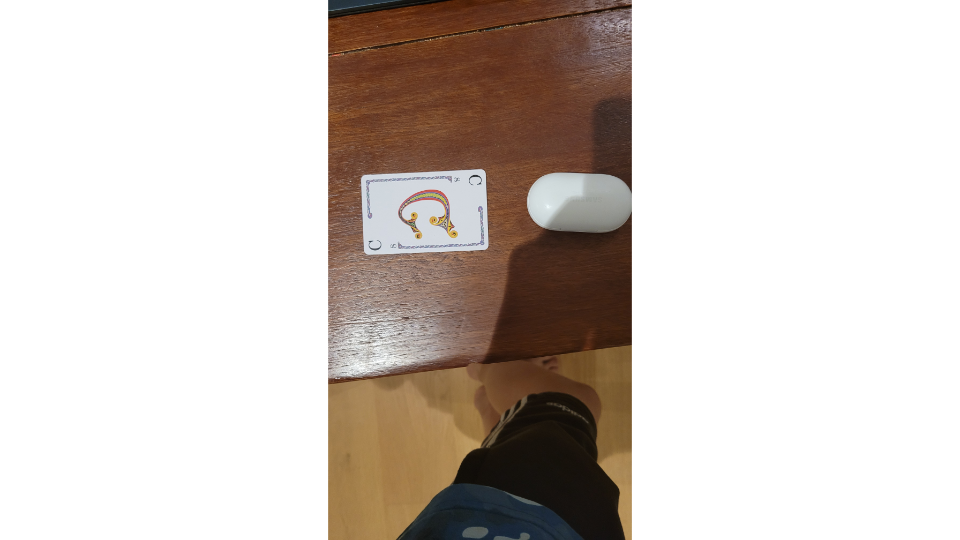C: (358, 168, 493, 258)
